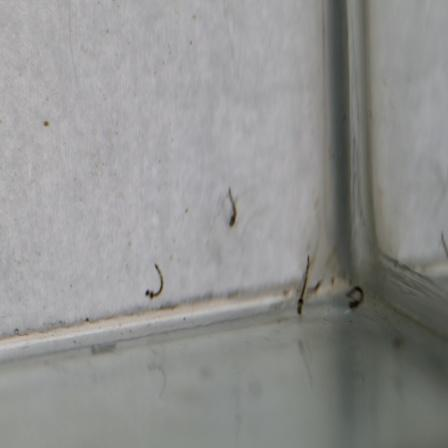Jentik-Nyamuk: (294, 252, 314, 317)
